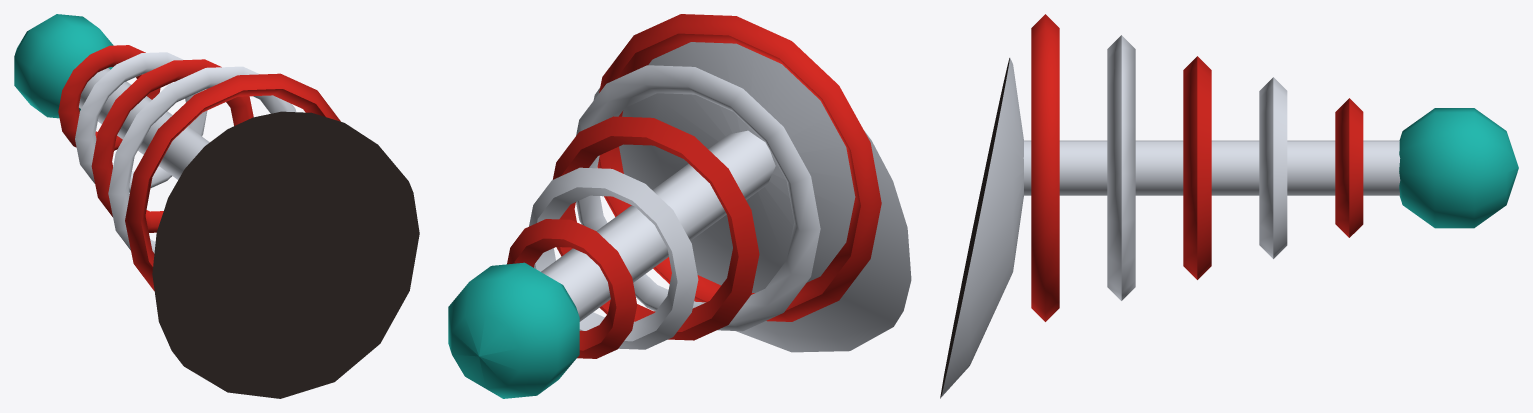
File: guard_shield_generator_debris1.obj
The picture shows the model from 3 angles, left to right: view 1: azimuth 30°, elevation 25°; view 2: azimuth 150°, elevation 25°; view 3: azimuth 270°, elevation 25°; orthographic projection. The views are drawn at different scales.
Visible parts, largest first — view 1: dome, coil, ball, mast; view 2: coil, dome, ball, mast; view 3: coil, mast, ball, dome.
Part boxes in pixels (box(x1,y1,x2,y2)): dome: box(152, 111, 419, 398); coil: box(58, 45, 340, 290); ball: box(14, 14, 113, 118); mast: box(79, 68, 209, 179); coil: box(507, 14, 881, 358); dome: box(593, 42, 911, 352); ball: box(448, 262, 579, 398); mast: box(541, 130, 775, 321); coil: box(1031, 14, 1363, 321); mast: box(1023, 140, 1400, 195); ball: box(1399, 108, 1518, 228); dome: box(940, 58, 1023, 398).
Size of the model in its own units: 3.03 by 3.27 by 4.95.
